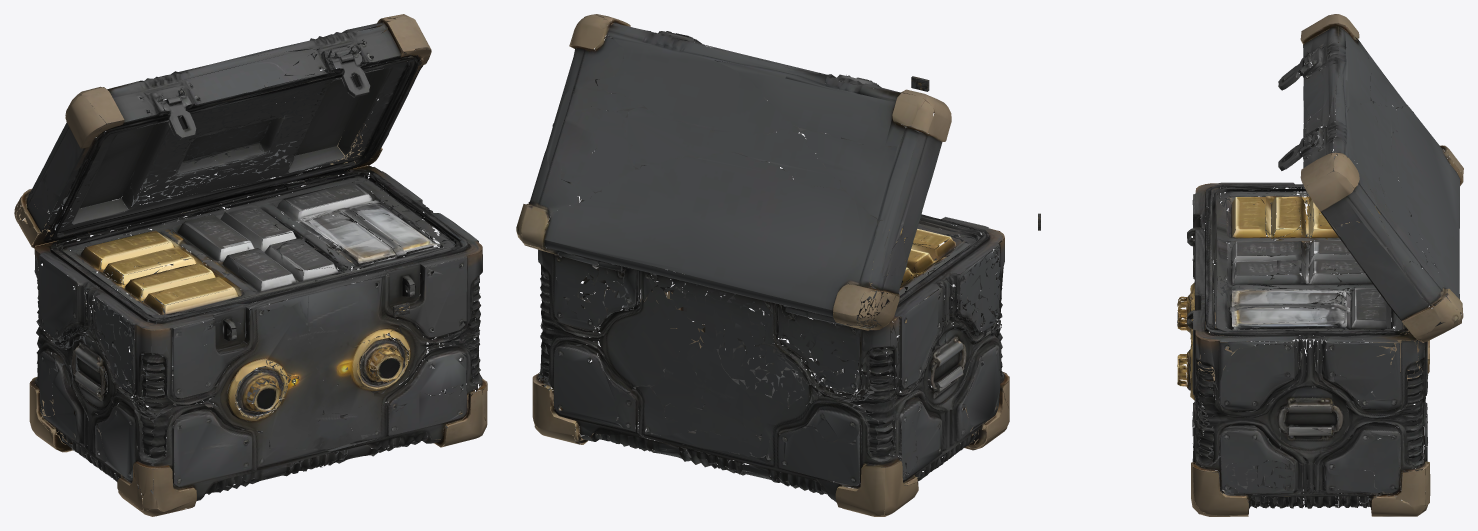
File: chen_bullion_smuggling_trunk.glb
The picture shows the model from 3 angles, left to right: view 1: azimuth 30°, elevation 25°; view 2: azimuth 150°, elevation 25°; view 3: azimuth 270°, elevation 25°; orthographic projection. The views are drawn at different scales.
Visible parts, largest first — view 1: node_0; view 2: node_0; view 3: node_0.
Boxes of the visible parts, bbox=[...] form: node_0: bbox=[14, 14, 487, 516]; node_0: bbox=[516, 14, 1009, 516]; node_0: bbox=[1177, 14, 1463, 516].
Size of the model in its own units: 0.7917 by 0.8103 by 0.8822.
1 material, 1 textured.
